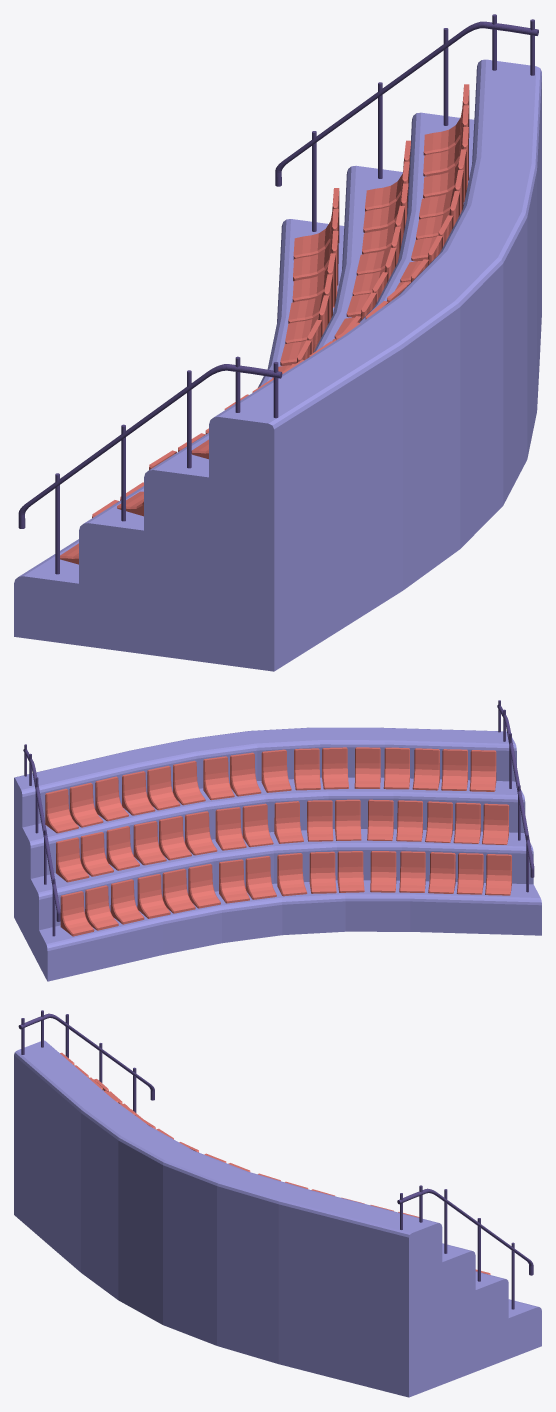
The model's file is Gradas.fbx.
3 renders of one model, top to bottom at view 1: azimuth 30°, elevation 25°; view 2: azimuth 150°, elevation 25°; view 3: azimuth 270°, elevation 25°, orthographic. The views are drawn at different scales.
Parts seen in each view (by area): view 1: Base, Seat_04, Seat_03, Seat_02, Baranda.001, Baranda; view 2: Base, Seat_03, Seat_04, Seat_02, Baranda, Baranda.001; view 3: Base, Baranda, Baranda.001, Seat_04.
Part boxes in pixels (bbox=[...]): Base: bbox=[14, 59, 541, 671]; Seat_04: bbox=[191, 84, 469, 459]; Seat_03: bbox=[60, 188, 339, 564]; Seat_02: bbox=[117, 140, 410, 516]; Baranda.001: bbox=[18, 356, 282, 574]; Baranda: bbox=[275, 14, 538, 231]; Base: bbox=[14, 727, 541, 981]; Seat_03: bbox=[60, 851, 511, 936]; Seat_04: bbox=[45, 747, 496, 833]; Seat_02: bbox=[56, 799, 509, 882]; Baranda: bbox=[23, 744, 60, 936]; Baranda.001: bbox=[497, 700, 534, 892]; Base: bbox=[14, 1040, 541, 1397]; Baranda: bbox=[397, 1185, 533, 1309]; Baranda.001: bbox=[18, 1010, 154, 1112]; Seat_04: bbox=[60, 1052, 419, 1217].
Size of the model in its own units: 2451 by 973 by 2337.
